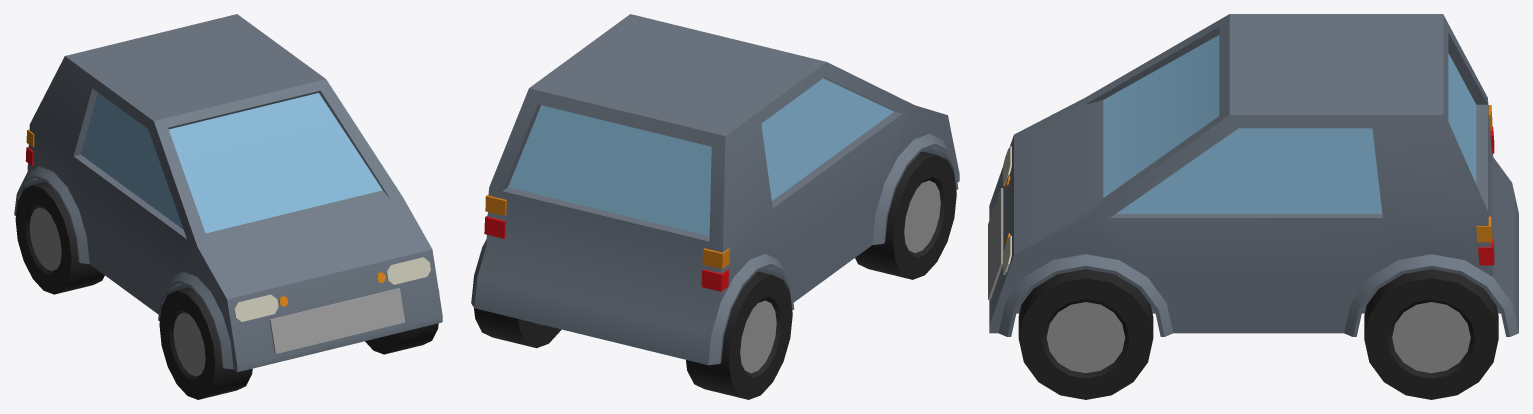
File: car-micro-silver.gltf
3 renders of one model, left to right at view 1: azimuth 30°, elevation 25°; view 2: azimuth 150°, elevation 25°; view 3: azimuth 270°, elevation 25°, orthographic. The views are drawn at different scales.
Visible parts, largest first — view 1: car-micro-silver_Cube.638; view 2: car-micro-silver_Cube.638; view 3: car-micro-silver_Cube.638.
Part boxes in pixels (x1,y1,x2,y2): car-micro-silver_Cube.638: [14, 14, 442, 399]; car-micro-silver_Cube.638: [471, 14, 959, 399]; car-micro-silver_Cube.638: [988, 14, 1518, 399].
Bounding box in the file's own units: 1.67 × 1.59 × 2.84.
